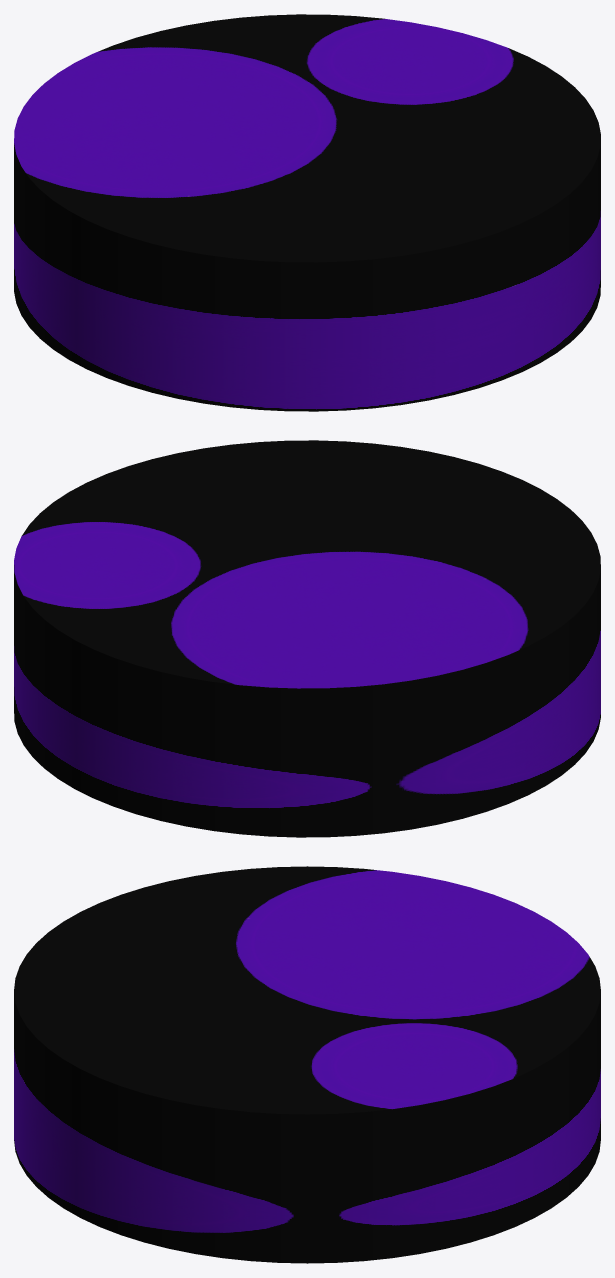
The model's file is platform-round-surface.glb.
The picture shows the model from 3 angles, top to bottom: view 1: azimuth 30°, elevation 25°; view 2: azimuth 150°, elevation 25°; view 3: azimuth 270°, elevation 25°; orthographic projection.
Parts seen in each view (by area): view 1: platform-round-surface; view 2: platform-round-surface; view 3: platform-round-surface.
Boxes of the visible parts, x1=… form: platform-round-surface: x1=14, y1=14, x2=600, y2=411; platform-round-surface: x1=14, y1=440, x2=600, y2=837; platform-round-surface: x1=14, y1=866, x2=600, y2=1263.
Size of the model in its own units: 1 by 0.28 by 1.
Materials: 1 (1 with a texture image).
